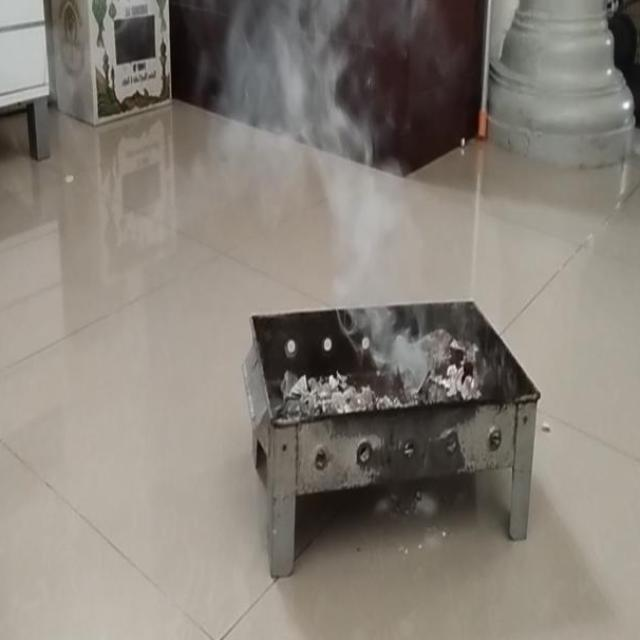fire: (222, 0, 367, 212), (330, 162, 428, 379)
